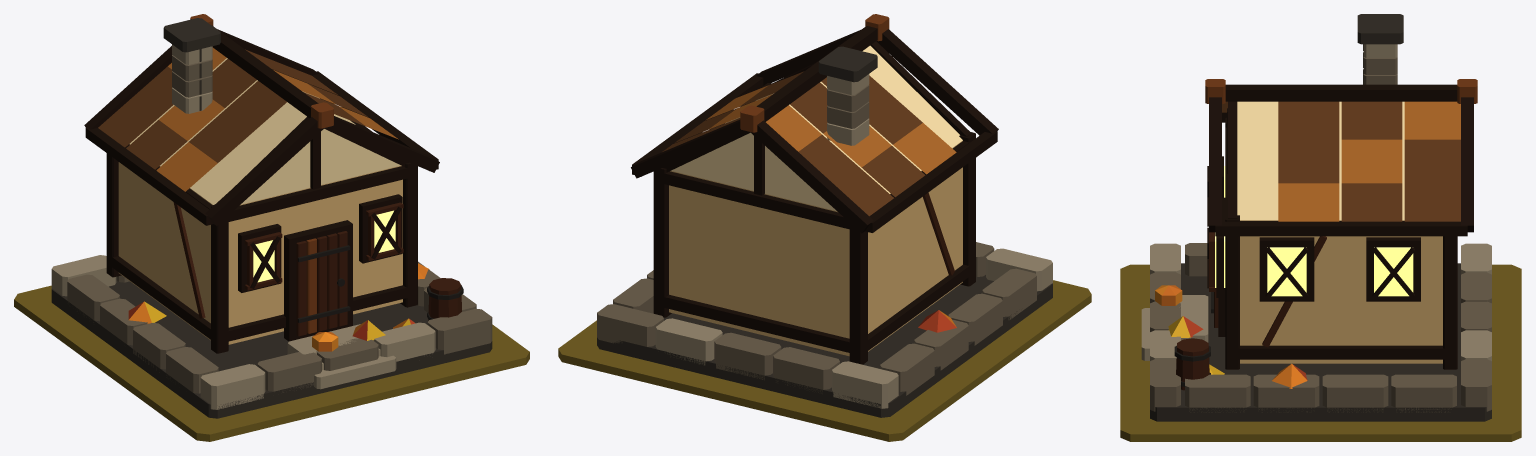
File: manor_hall_t1.glb
The picture shows the model from 3 angles, left to right: view 1: azimuth 30°, elevation 25°; view 2: azimuth 150°, elevation 25°; view 3: azimuth 270°, elevation 25°; orthographic projection. The views are drawn at different scales.
Visible parts, largest first — view 1: MMR | hall | T01 Architecture.001, MMR | hall | Tier 01 Ground.001, MMR | hall | T01 Autumn Dressing.001; view 2: MMR | hall | T01 Architecture.001, MMR | hall | Tier 01 Ground.001, MMR | hall | T01 Autumn Dressing.001; view 3: MMR | hall | T01 Architecture.001, MMR | hall | Tier 01 Ground.001, MMR | hall | T01 Autumn Dressing.001.
Boxes of the visible parts, left/top/right/bottom form: MMR | hall | T01 Architecture.001: left=51, top=14, right=492, bottom=418; MMR | hall | Tier 01 Ground.001: left=14, top=285, right=529, bottom=441; MMR | hall | T01 Autumn Dressing.001: left=128, top=263, right=429, bottom=351; MMR | hall | T01 Architecture.001: left=597, top=14, right=1052, bottom=417; MMR | hall | Tier 01 Ground.001: left=558, top=280, right=1091, bottom=441; MMR | hall | T01 Autumn Dressing.001: left=918, top=310, right=956, bottom=332; MMR | hall | T01 Architecture.001: left=1141, top=14, right=1491, bottom=421; MMR | hall | Tier 01 Ground.001: left=1120, top=264, right=1521, bottom=441; MMR | hall | T01 Autumn Dressing.001: left=1155, top=285, right=1307, bottom=388.
Bounding box in the file's own units: 2.35 × 1.98 × 2.35.
2 materials, 1 textured.
